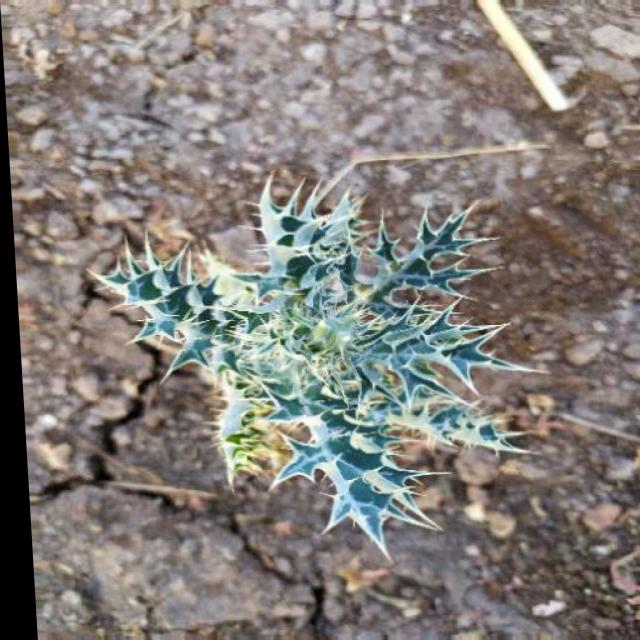weed: (84, 175, 536, 550)
